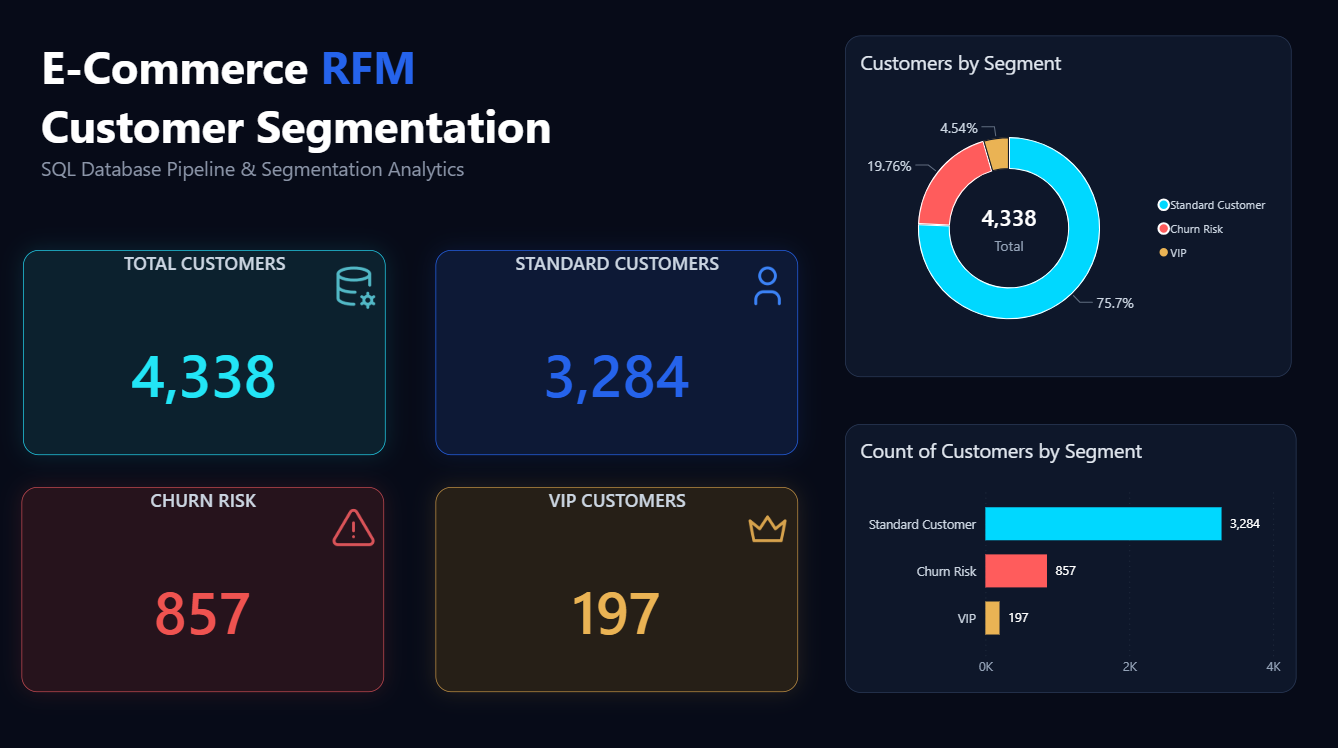

What the dashboard file says about the page in this screenshot:
{"tool":"powerbi","page":{"name":"Page 1","canvas":[1280,720],"ordinal":0},"visuals":[{"type":"cardVisual","title":"VIP CUSTOMERS","fields":{"Data":["Count(public customer_segments.customer_id)"]},"box":[415,465,345,195],"z":0},{"type":"cardVisual","title":"TOTAL CUSTOMERS","fields":{"Data":["Count(public customer_segments.customer_id)"]},"box":[22.7,240,345,195],"z":1000},{"type":"cardVisual","title":"STANDARD CUSTOMERS","fields":{"Data":["Count(public customer_segments.customer_id)"]},"box":[415,240,345,195],"z":2000},{"type":"cardVisual","title":"CHURN RISK","fields":{"Data":["Count(public customer_segments.customer_id)"]},"box":[22,465,345,195],"z":3000},{"type":"donutChart","title":"Customers by Segment","fields":{"Category":["public customer_segments.customer_segment"],"Y":["Count(public customer_segments.customer_id)"]},"box":[805,35.4,425,325],"z":4000},{"type":"clusteredBarChart","title":"Count of Customers by Segment","fields":{"Category":["public customer_segments.customer_segment"],"Y":["Count(public customer_segments.customer_id)"]},"box":[805,406,430,256],"z":5000},{"type":"textbox","box":[40,35,720,185],"z":6000},{"type":"image","box":[310,251.4,55.7,45.7],"z":7000},{"type":"image","box":[705,251.7,55,45],"z":8000},{"type":"image","box":[310,483.3,55,45],"z":9000},{"type":"image","box":[705,483.3,55,45],"z":10000}]}

Visuals, with their boxes in screenshot pixels (x1, y1, x2, y2), scaled from the page's 1280x720 canvas onto the 1338x748 screenshot:
"VIP CUSTOMERS" cardVisual: (left=434, top=483, right=794, bottom=686)
"TOTAL CUSTOMERS" cardVisual: (left=24, top=249, right=384, bottom=452)
"STANDARD CUSTOMERS" cardVisual: (left=434, top=249, right=794, bottom=452)
"CHURN RISK" cardVisual: (left=23, top=483, right=384, bottom=686)
"Customers by Segment" donutChart: (left=841, top=37, right=1286, bottom=374)
"Count of Customers by Segment" clusteredBarChart: (left=841, top=422, right=1291, bottom=688)
textbox: (left=42, top=36, right=794, bottom=229)
image: (left=324, top=261, right=382, bottom=309)
image: (left=737, top=261, right=794, bottom=308)
image: (left=324, top=502, right=382, bottom=549)
image: (left=737, top=502, right=794, bottom=549)
